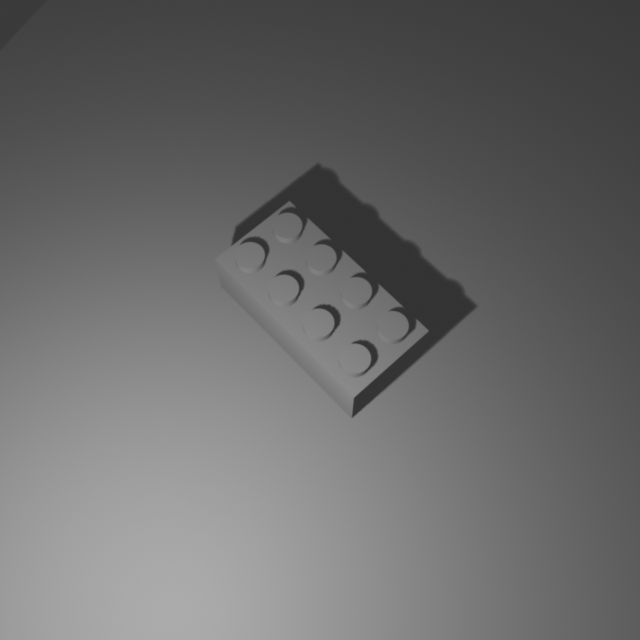lego_2x4: (214, 196, 430, 418)
